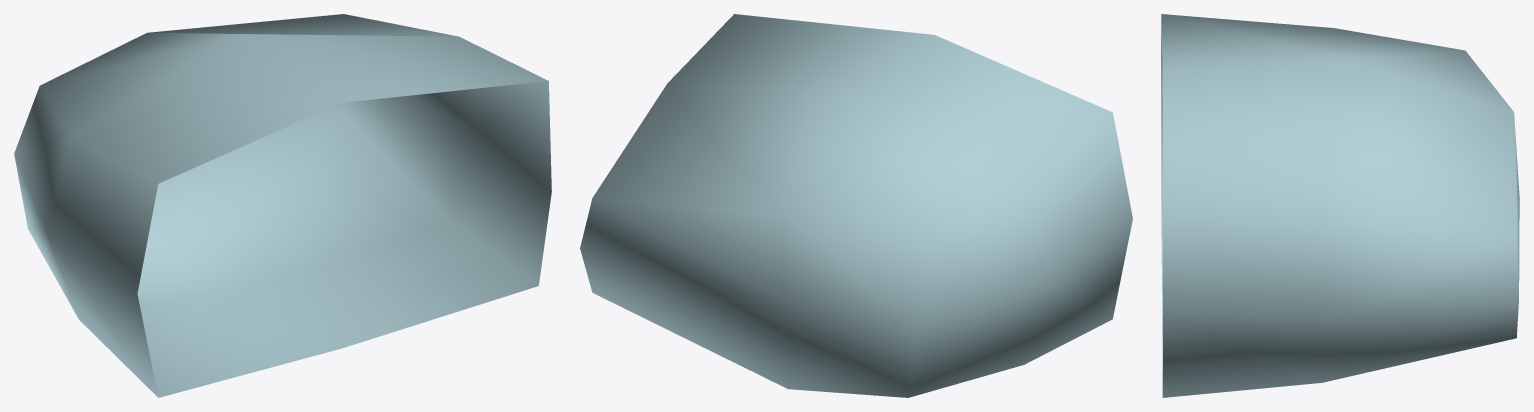
File: catInnerTop.fbx
3 renders of one model, left to right at view 1: azimuth 30°, elevation 25°; view 2: azimuth 150°, elevation 25°; view 3: azimuth 270°, elevation 25°, orthographic. The views are drawn at different scales.
Parts seen in each view (by area): view 1: catInnerTop; view 2: catInnerTop; view 3: catInnerTop.
Part boxes in pixels (left/top/right/bottom): catInnerTop: left=14, top=14, right=551, bottom=397; catInnerTop: left=580, top=14, right=1132, bottom=397; catInnerTop: left=1161, top=14, right=1519, bottom=397.
Size of the model in its own units: 0.0431 by 0.0247 by 0.0314.
